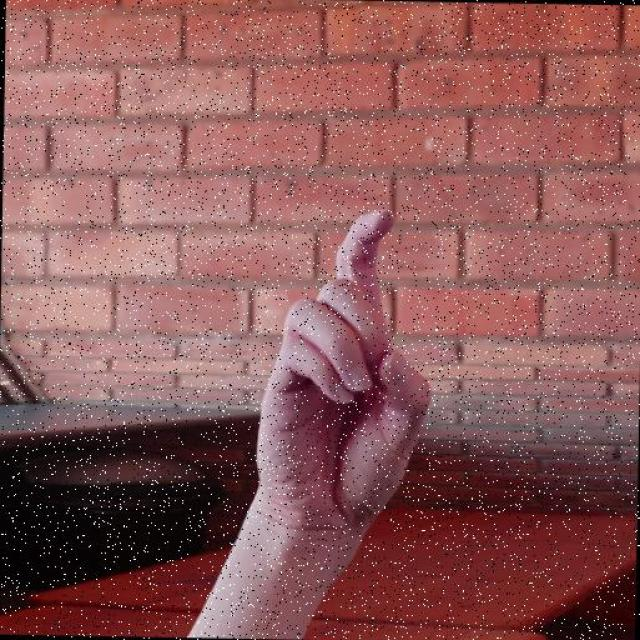X: (193, 187, 456, 638)
